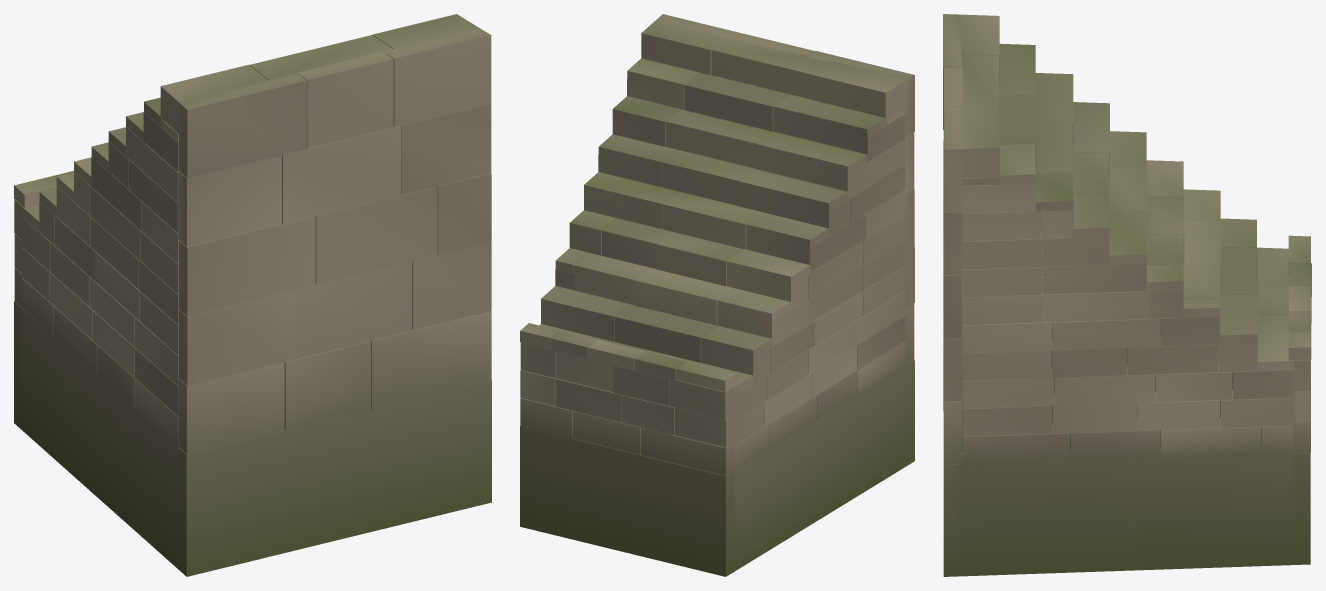
The model's file is arena_seats_a_mid.glb.
3 renders of one model, left to right at view 1: azimuth 30°, elevation 25°; view 2: azimuth 150°, elevation 25°; view 3: azimuth 270°, elevation 25°, orthographic. The views are drawn at different scales.
Visible parts, largest first — view 1: arena_seats_a_mid; view 2: arena_seats_a_mid; view 3: arena_seats_a_mid.
Boxes of the visible parts, <box> form: arena_seats_a_mid: <box>14,14,491,576</box>; arena_seats_a_mid: <box>520,14,914,576</box>; arena_seats_a_mid: <box>943,14,1311,576</box>.
Bounding box in the file's own units: 15.71 × 22.99 × 17.98.
